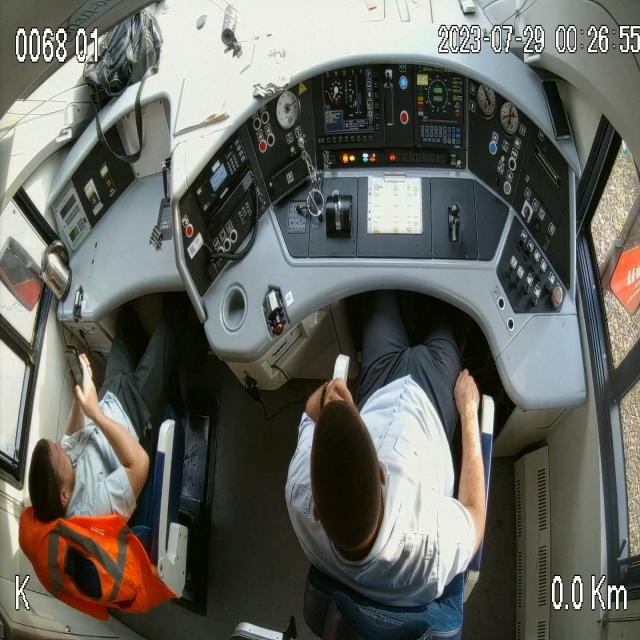smartphone: (62, 341, 98, 423)
